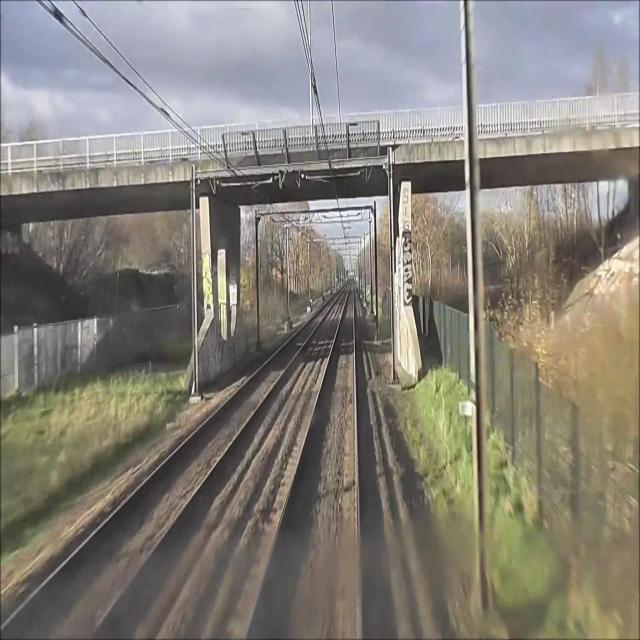rail-track: (0, 290, 341, 639), (248, 283, 357, 639)
